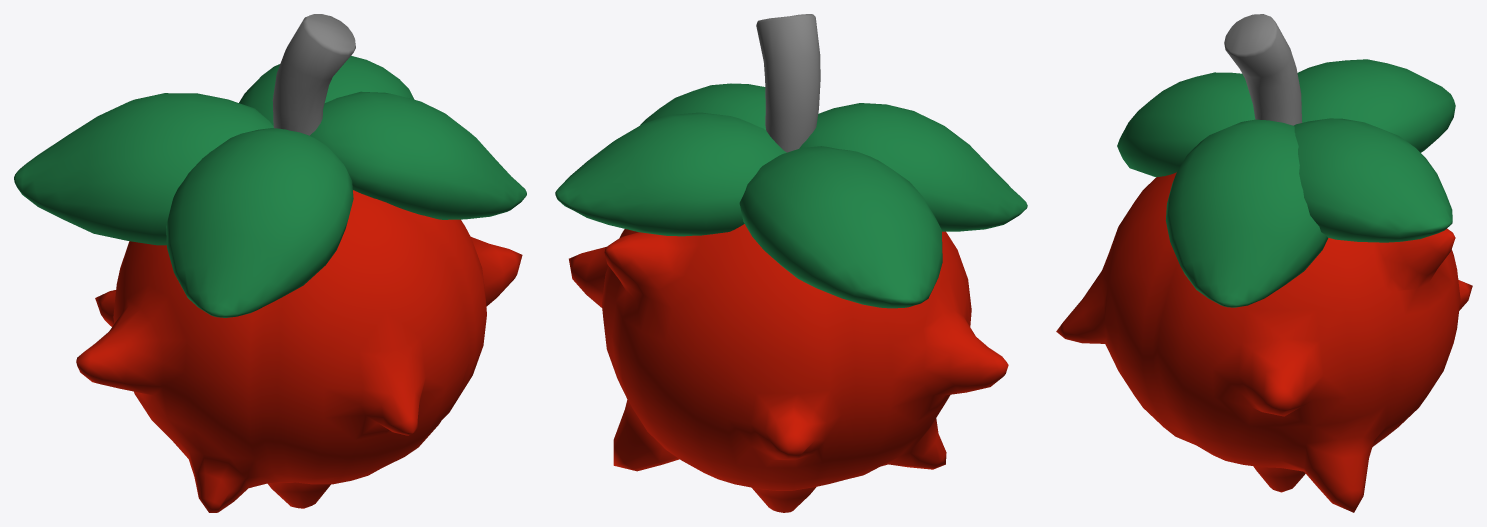
File: Item_BoombFruit1.fbx
3 views of the same model, side by side, from view 1: azimuth 30°, elevation 25°; view 2: azimuth 150°, elevation 25°; view 3: azimuth 270°, elevation 25° (orthographic). The views are drawn at different scales.
Parts seen in each view (by area): view 1: BoombFruit, BoombLeaf1, BoombLeaf3, BoombLeaf4, BoombStem, BoombLeaf2; view 2: BoombFruit, BoombLeaf3, BoombLeaf2, BoombLeaf1, BoombStem, BoombLeaf4; view 3: BoombFruit, BoombLeaf4, BoombLeaf2, BoombLeaf3, BoombLeaf1, BoombStem.
Part boxes in pixels (bbox=[...]): BoombFruit: bbox=[76, 190, 522, 512]; BoombLeaf1: bbox=[166, 128, 353, 317]; BoombLeaf3: bbox=[14, 93, 273, 245]; BoombLeaf4: bbox=[310, 91, 526, 219]; BoombStem: bbox=[272, 14, 355, 135]; BoombLeaf2: bbox=[239, 55, 414, 125]; BoombFruit: bbox=[569, 224, 1008, 512]; BoombLeaf3: bbox=[739, 146, 942, 308]; BoombLeaf2: bbox=[555, 112, 786, 236]; BoombLeaf1: bbox=[799, 103, 1027, 231]; BoombStem: bbox=[756, 14, 820, 152]; BoombLeaf4: bbox=[640, 83, 766, 130]; BoombFruit: bbox=[1056, 172, 1472, 512]; BoombLeaf4: bbox=[1165, 119, 1328, 307]; BoombLeaf2: bbox=[1293, 118, 1452, 242]; BoombLeaf3: bbox=[1297, 59, 1455, 152]; BoombLeaf1: bbox=[1117, 72, 1255, 177]; BoombStem: bbox=[1224, 14, 1302, 125].
Size of the model in its own units: 91.09 by 97.21 by 77.25.
